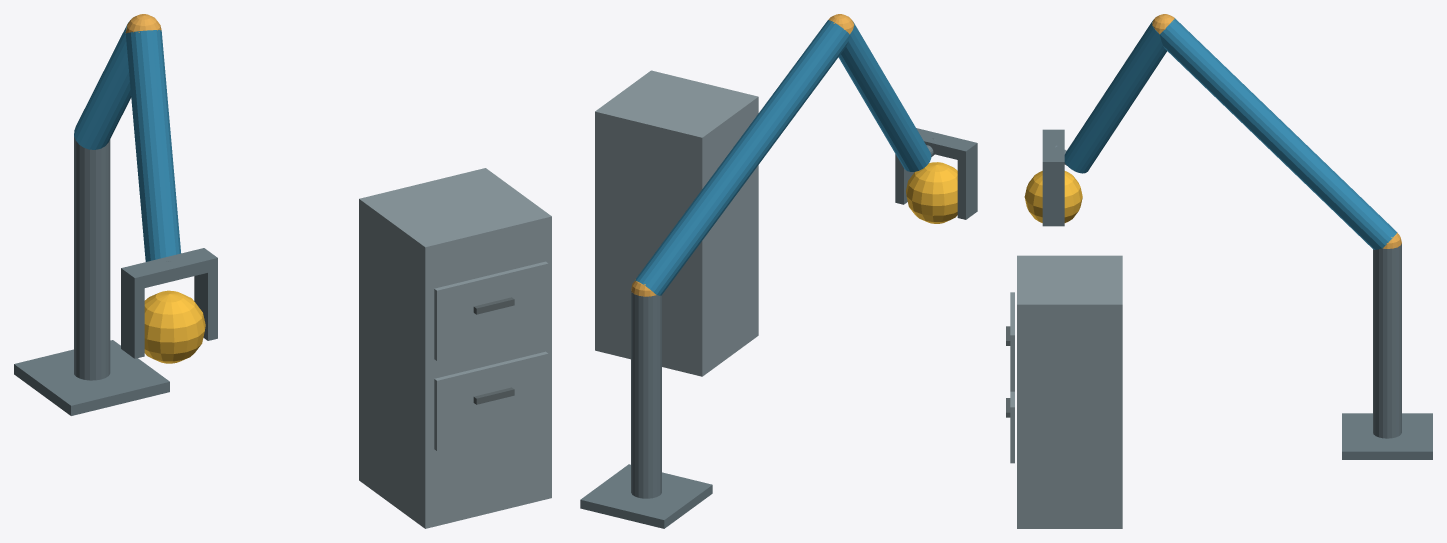
The picture shows the model from 3 angles, left to right: view 1: azimuth 30°, elevation 25°; view 2: azimuth 150°, elevation 25°; view 3: azimuth 270°, elevation 25°; orthographic projection. The views are drawn at different scales.
Visible parts, largest first — view 1: cabinet_1 body, fixed post, moving link 2, cabinet_1 drawer front, cabinet_1 drawer front.001, pedestal, ball ball_1, moving link 1, gripper bridge, gripper finger -1, gripper finger 1; view 2: cabinet_1 body, moving link 1, fixed post, moving link 2, pedestal, ball ball_1, gripper finger -1, gripper bridge, gripper finger 1; view 3: cabinet_1 body, moving link 1, fixed post, moving link 2, pedestal, ball ball_1, gripper finger 1, gripper bridge, cabinet_1 drawer front.001.
Part boxes in pixels (x1=…): cabinet_1 body: x1=359, y1=168, x2=551, y2=528; fixed post: x1=74, y1=136, x2=110, y2=380; moving link 2: x1=125, y1=30, x2=180, y2=261; cabinet_1 drawer front: x1=434, y1=351, x2=548, y2=451; cabinet_1 drawer front.001: x1=434, y1=261, x2=548, y2=360; pedestal: x1=14, y1=340, x2=169, y2=415; ball ball_1: x1=144, y1=290, x2=205, y2=363; moving link 1: x1=74, y1=22, x2=131, y2=149; gripper bridge: x1=121, y1=248, x2=217, y2=290; gripper finger -1: x1=121, y1=281, x2=144, y2=358; gripper finger 1: x1=194, y1=270, x2=217, y2=340; cabinet_1 body: x1=595, y1=70, x2=758, y2=376; moving link 1: x1=634, y1=20, x2=849, y2=295; fixed post: x1=631, y1=291, x2=661, y2=498; moving link 2: x1=838, y1=22, x2=931, y2=171; pedestal: x1=580, y1=464, x2=712, y2=528; ball ball_1: x1=906, y1=162, x2=957, y2=223; gripper finger -1: x1=957, y1=154, x2=977, y2=219; gripper bridge: x1=916, y1=128, x2=977, y2=161; gripper finger 1: x1=895, y1=154, x2=914, y2=204; cabinet_1 body: x1=1017, y1=255, x2=1122, y2=528; moving link 1: x1=1160, y1=18, x2=1397, y2=249; fixed post: x1=1373, y1=243, x2=1401, y2=438; moving link 2: x1=1064, y1=20, x2=1166, y2=173; pedestal: x1=1342, y1=413, x2=1432, y2=459; ball ball_1: x1=1024, y1=171, x2=1082, y2=222; gripper finger 1: x1=1042, y1=172, x2=1064, y2=226; gripper bridge: x1=1042, y1=129, x2=1064, y2=171; cabinet_1 drawer front.001: x1=1010, y1=292, x2=1014, y2=391.
Bounding box in the file's own units: 1.01 × 1.19 × 1.17.
